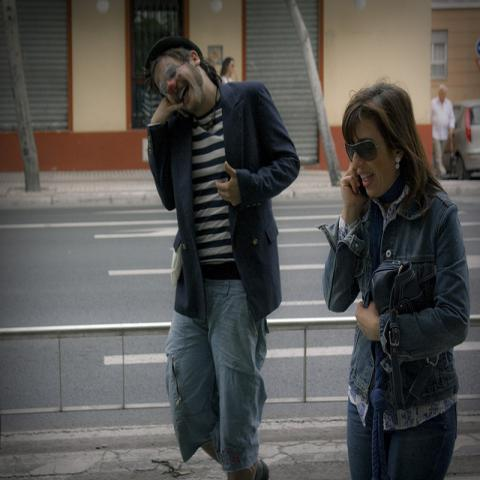car: (442, 99, 479, 183)
